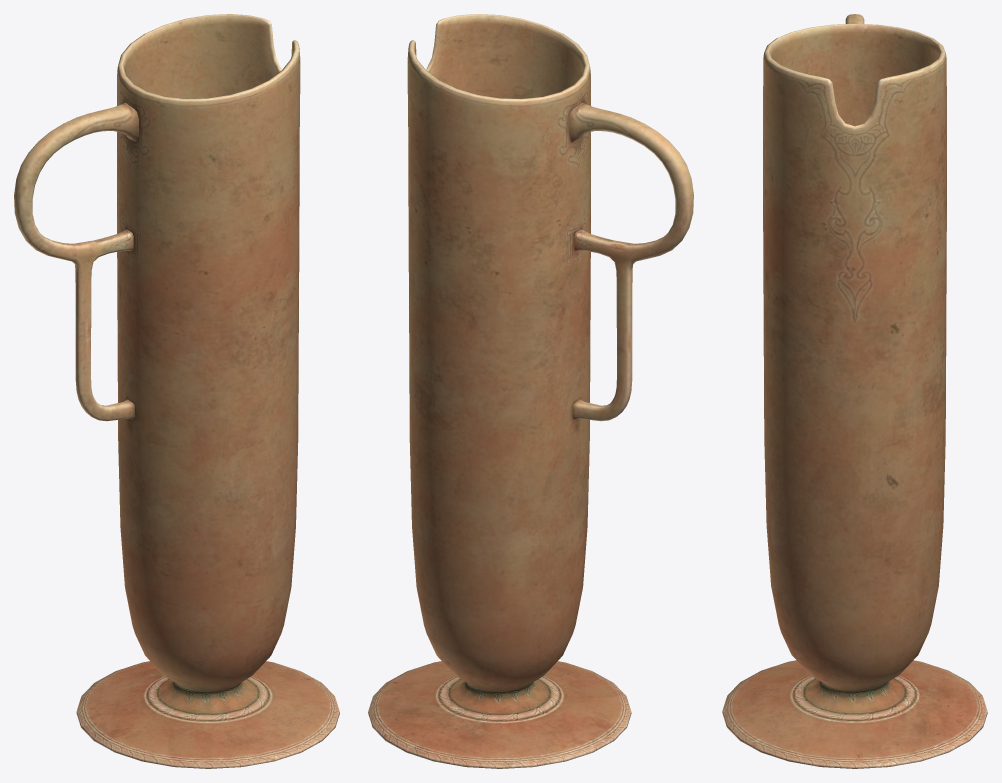
Rendered from vase.glb.
The picture shows the model from 3 angles, left to right: view 1: azimuth 30°, elevation 25°; view 2: azimuth 150°, elevation 25°; view 3: azimuth 270°, elevation 25°; orthographic projection.
Parts seen in each view (by area): view 1: brass_vase_04; view 2: brass_vase_04; view 3: brass_vase_04.
Part boxes in pixels (x1,y1,x2,y2): brass_vase_04: (14,14,339,768); brass_vase_04: (368,14,693,768); brass_vase_04: (722,14,987,768).
Bounding box in the file's own units: 0.082 × 0.1703 × 0.061.
Materials: 1 (1 with a texture image).
